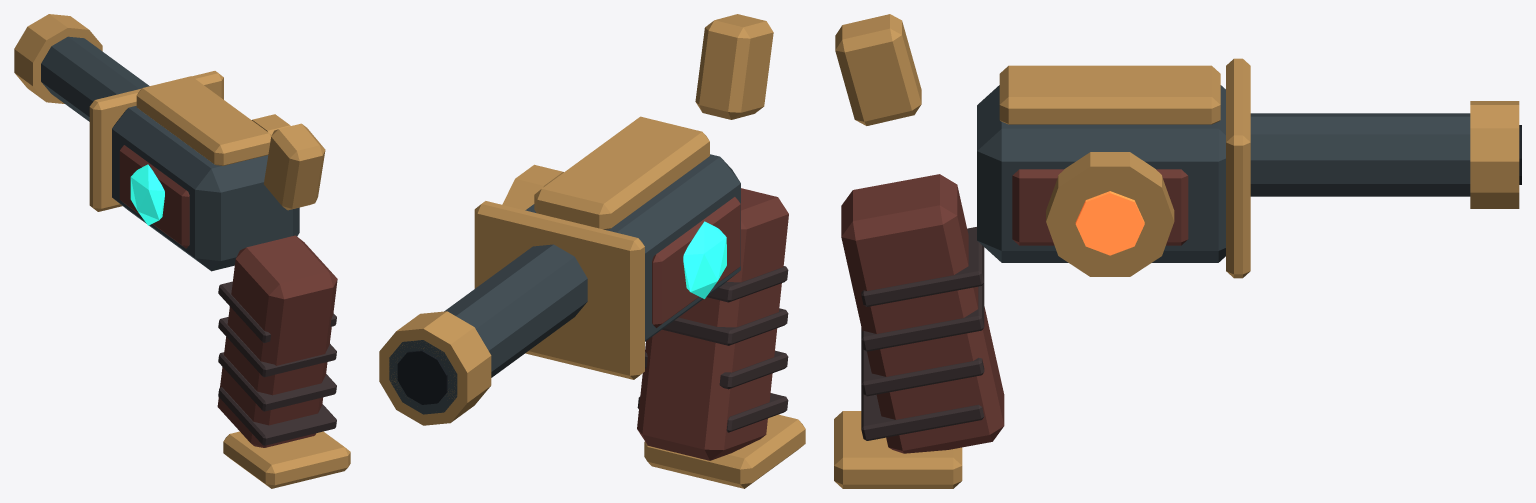
Rendered from 02_cinderkey.glb.
The picture shows the model from 3 angles, left to right: view 1: azimuth 30°, elevation 25°; view 2: azimuth 150°, elevation 25°; view 3: azimuth 270°, elevation 25°; orthographic projection. The views are drawn at different scales.
Parts seen in each view (by area): view 1: Grip | wrapped heartwood.001, Receiver | forged iron, Receiver | raised spine, Barrel | iron, Grip | pommel.001, Hammer | cocked brass, Rib | crosswise brass, Muzzle | brass ferrule, Receiver | lacquer sideplate, Grip | dark binding.004, Grip | dark binding.005, Receiver | witchglass seal (+3 smaller); view 2: Grip | wrapped heartwood.001, Rib | crosswise brass, Barrel | iron, Receiver | raised spine, Receiver | forged iron, Hammer | cocked brass, Muzzle | brass ferrule, Grip | pommel.001, Receiver | lacquer sideplate, Receiver | witchglass seal, Muzzle | dark bore, Grip | dark binding.006 (+4 smaller); view 3: Grip | wrapped heartwood.001, Receiver | forged iron, Barrel | iron, Receiver | raised spine, Chamber | side wheel, Hammer | cocked brass, Grip | pommel.001, Muzzle | brass ferrule, Rib | crosswise brass, Receiver | lacquer sideplate.001, Chamber | ember, Grip | dark binding.007 (+3 smaller).
Part boxes in pixels (bbox=[...]): Grip | wrapped heartwood.001: bbox=[217, 235, 337, 447]; Receiver | forged iron: bbox=[112, 106, 299, 271]; Receiver | raised spine: bbox=[136, 76, 271, 165]; Barrel | iron: bbox=[41, 36, 149, 121]; Grip | pommel.001: bbox=[223, 431, 350, 488]; Hammer | cocked brass: bbox=[264, 123, 325, 210]; Rib | crosswise brass: bbox=[89, 71, 223, 211]; Muzzle | brass ferrule: bbox=[14, 14, 102, 103]; Receiver | lacquer sideplate: bbox=[119, 145, 189, 248]; Grip | dark binding.004: bbox=[218, 387, 336, 445]; Grip | dark binding.005: bbox=[218, 352, 336, 411]; Receiver | witchglass seal: bbox=[130, 164, 164, 225]; Grip | wrapped heartwood.001: bbox=[637, 188, 788, 460]; Rib | crosswise brass: bbox=[474, 201, 644, 379]; Barrel | iron: bbox=[389, 244, 587, 414]; Receiver | raised spine: bbox=[534, 116, 709, 229]; Receiver | forged iron: bbox=[525, 154, 740, 341]; Hammer | cocked brass: bbox=[695, 14, 773, 119]; Muzzle | brass ferrule: bbox=[379, 311, 491, 425]; Grip | pommel.001: bbox=[644, 414, 805, 488]; Receiver | lacquer sideplate: bbox=[652, 197, 740, 327]; Receiver | witchglass seal: bbox=[683, 221, 726, 298]; Muzzle | dark bore: bbox=[397, 350, 447, 404]; Grip | dark binding.006: bbox=[662, 308, 788, 345]; Grip | wrapped heartwood.001: bbox=[841, 174, 1004, 453]; Receiver | forged iron: bbox=[977, 85, 1225, 262]; Barrel | iron: bbox=[1250, 113, 1470, 196]; Receiver | raised spine: bbox=[999, 65, 1220, 124]; Chamber | side wheel: bbox=[1046, 152, 1174, 276]; Hammer | cocked brass: bbox=[835, 14, 921, 125]; Grip | pommel.001: bbox=[834, 411, 962, 488]; Muzzle | brass ferrule: bbox=[1470, 101, 1519, 208]; Rib | crosswise brass: bbox=[1226, 58, 1250, 278]; Receiver | lacquer sideplate.001: bbox=[1012, 169, 1188, 245]; Chamber | ember: bbox=[1075, 191, 1144, 255]; Grip | dark binding.007: bbox=[861, 227, 984, 306].
Size of the model in its own units: 0.2334 by 0.4971 by 0.6975.
